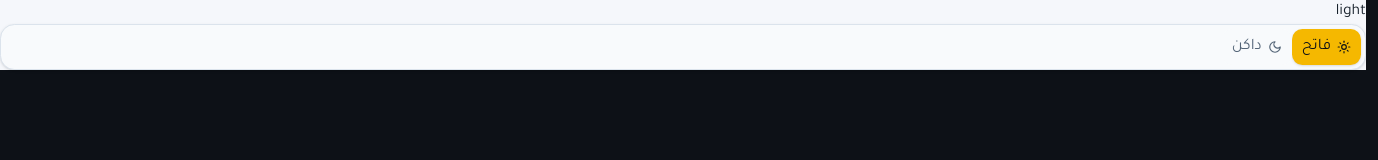
Test: ThemeProvider › switches to dark mode through the explicit selector and saves the preference
Click the button with aria-label "اختيار الثيم الداكن" at (1257, 47), box x1=1222 y1=29 x2=1292 y2=65
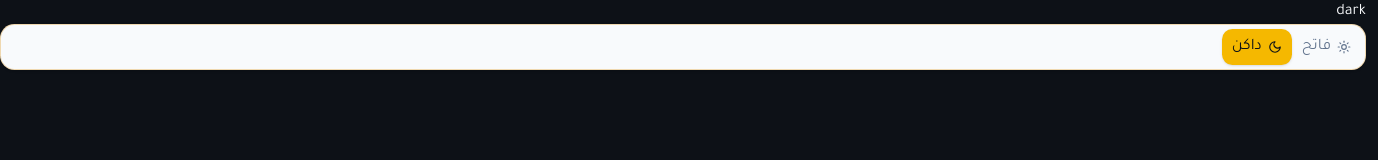
Now the text "dark" is shown, box x1=1336 y1=4 x2=1366 y2=20
